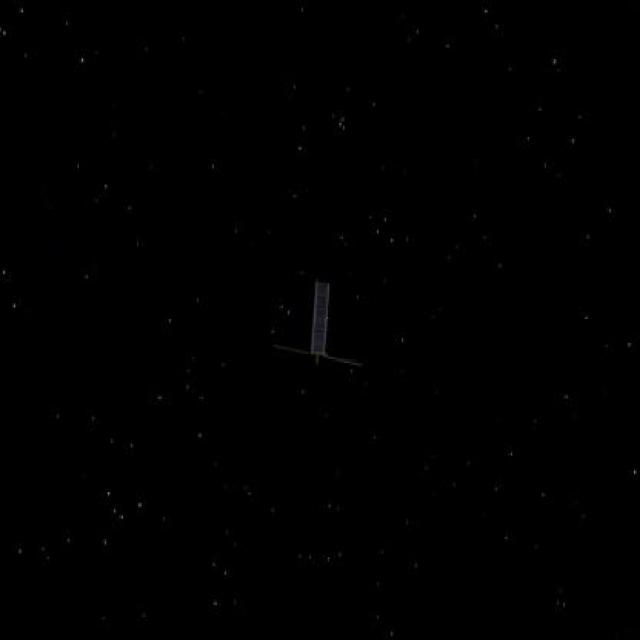medium_debris: (251, 276, 374, 376)
